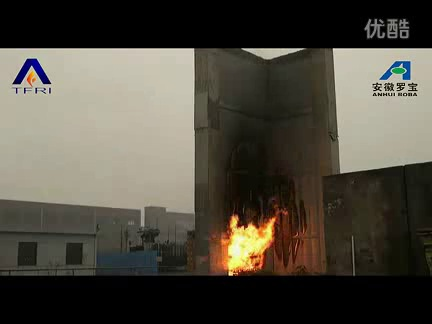fire: (217, 209, 285, 275)
